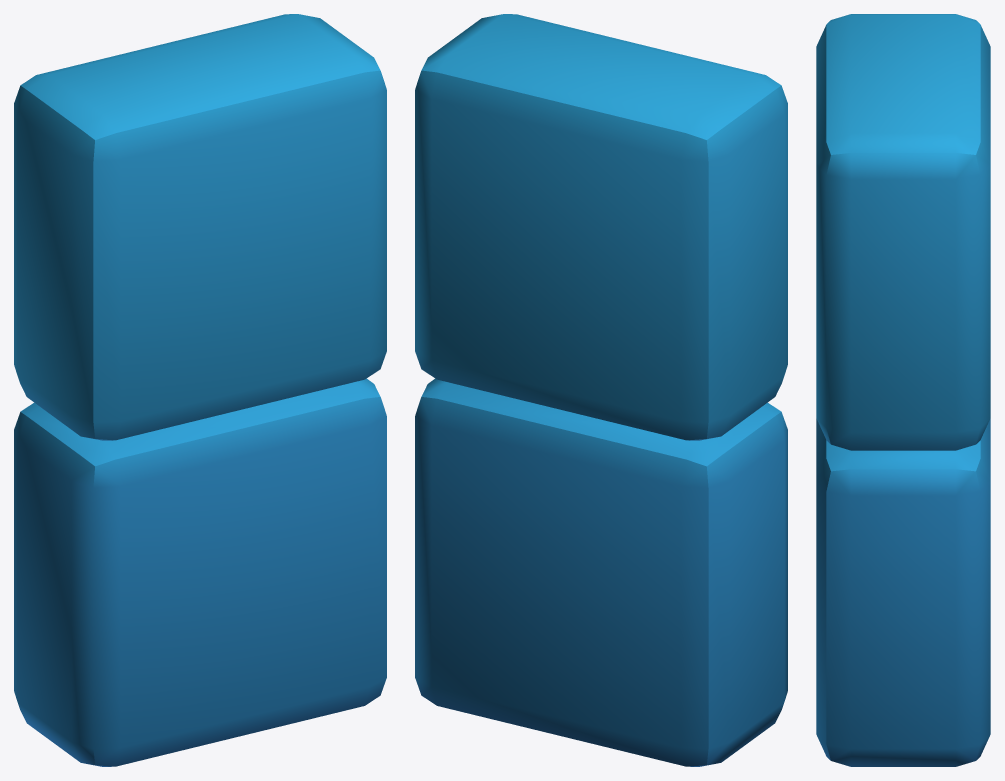
Rendered from barrier_2x1x4_blue.glb.
3 renders of one model, left to right at view 1: azimuth 30°, elevation 25°; view 2: azimuth 150°, elevation 25°; view 3: azimuth 270°, elevation 25°, orthographic. The views are drawn at different scales.
Visible parts, largest first — view 1: barrier_2x1x4_blue; view 2: barrier_2x1x4_blue; view 3: barrier_2x1x4_blue.
Boxes of the visible parts, left/top/right/bottom form: barrier_2x1x4_blue: left=14, top=14, right=386, bottom=766; barrier_2x1x4_blue: left=415, top=14, right=787, bottom=766; barrier_2x1x4_blue: left=816, top=14, right=990, bottom=766.
Size of the model in its own units: 2 by 4 by 1.
1 material, 1 textured.
